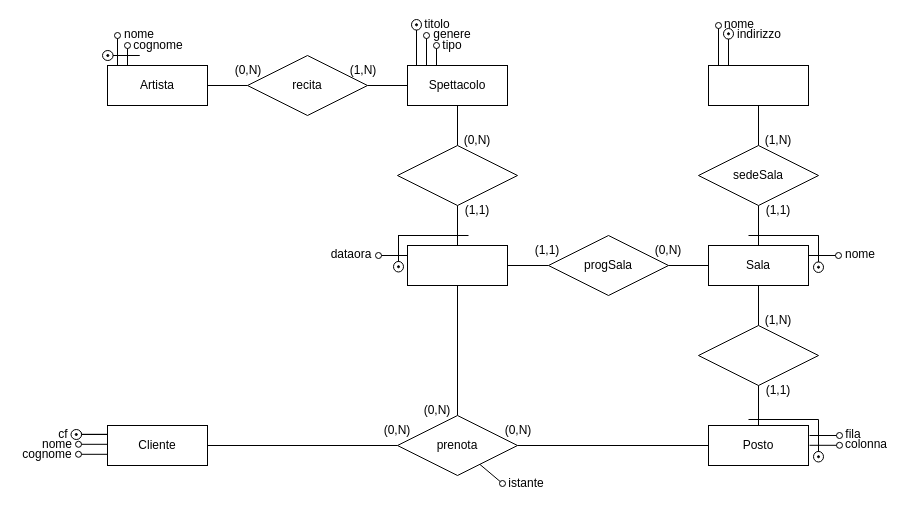
Image size: 913x509. Some labels were removed from this diagram. The shapes that lost their labels are listed below. From the top down, each one's centre as x and y in pixels, then its label:
[758,85]: Sede
[457,175]: progSp
[457,265]: Programmazione
[758,355]: postiSala
